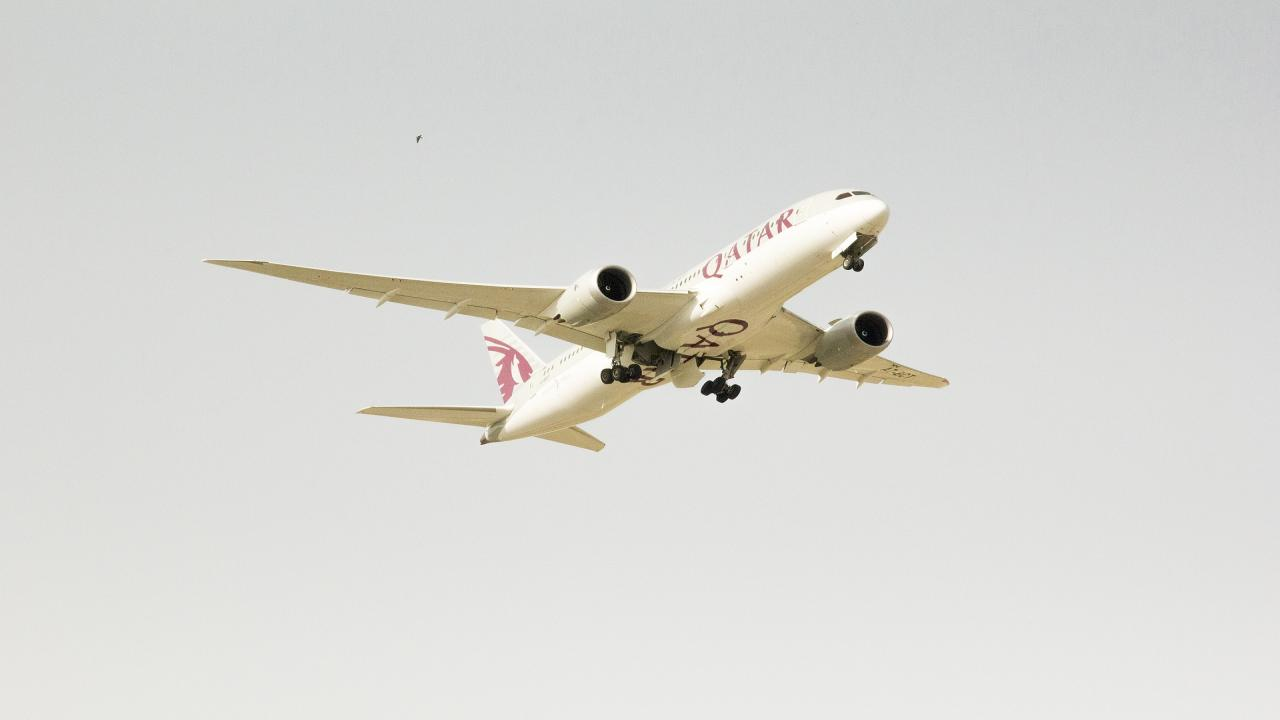Airplane: (192, 179, 957, 463)
